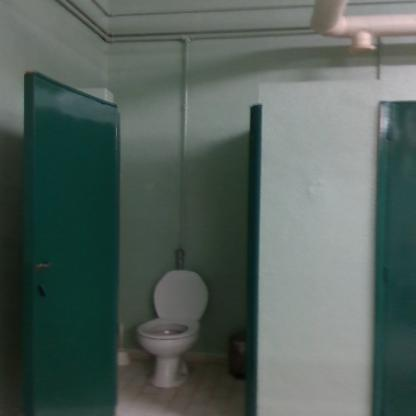closed: (349, 77, 415, 416)
open: (16, 60, 271, 416)
